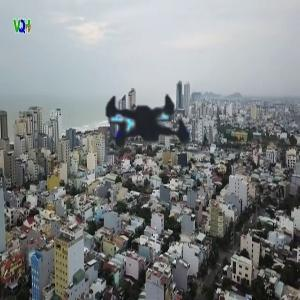drone: (61, 40, 233, 212)
